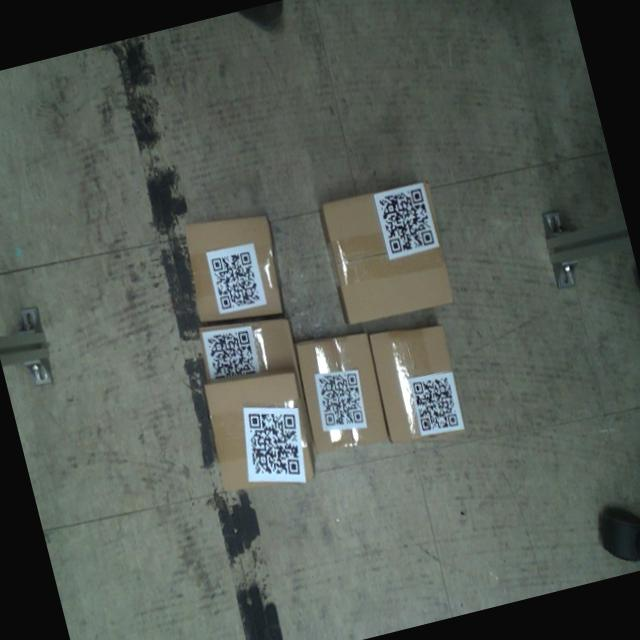box: (314, 175, 458, 332), (198, 358, 324, 504), (172, 202, 294, 334), (365, 314, 475, 452), (289, 326, 393, 461)
